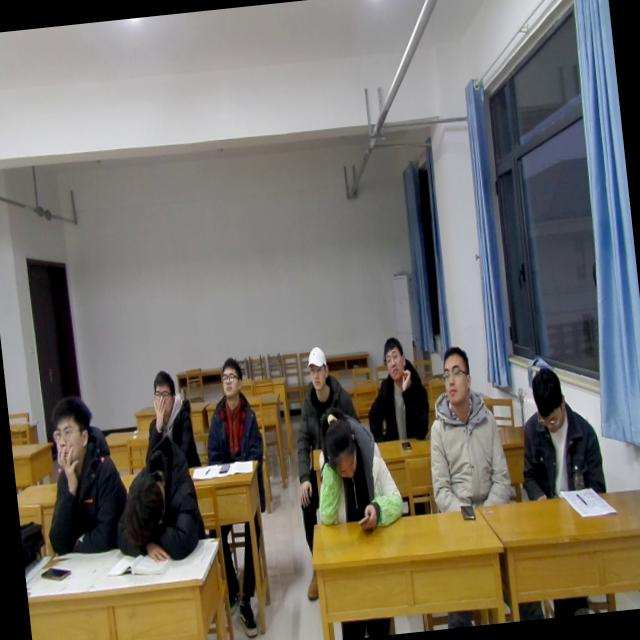bow: (103, 427, 211, 569), (308, 402, 408, 538)
down: (525, 359, 570, 438), (317, 406, 362, 482)
lookup: (41, 387, 98, 476), (436, 338, 474, 409), (300, 342, 334, 396), (375, 331, 408, 385), (146, 364, 178, 418), (214, 350, 244, 404)
sit: (32, 384, 134, 562), (414, 339, 512, 519), (509, 358, 609, 508), (358, 330, 433, 446), (132, 363, 204, 478), (286, 336, 358, 450), (195, 352, 266, 467)
